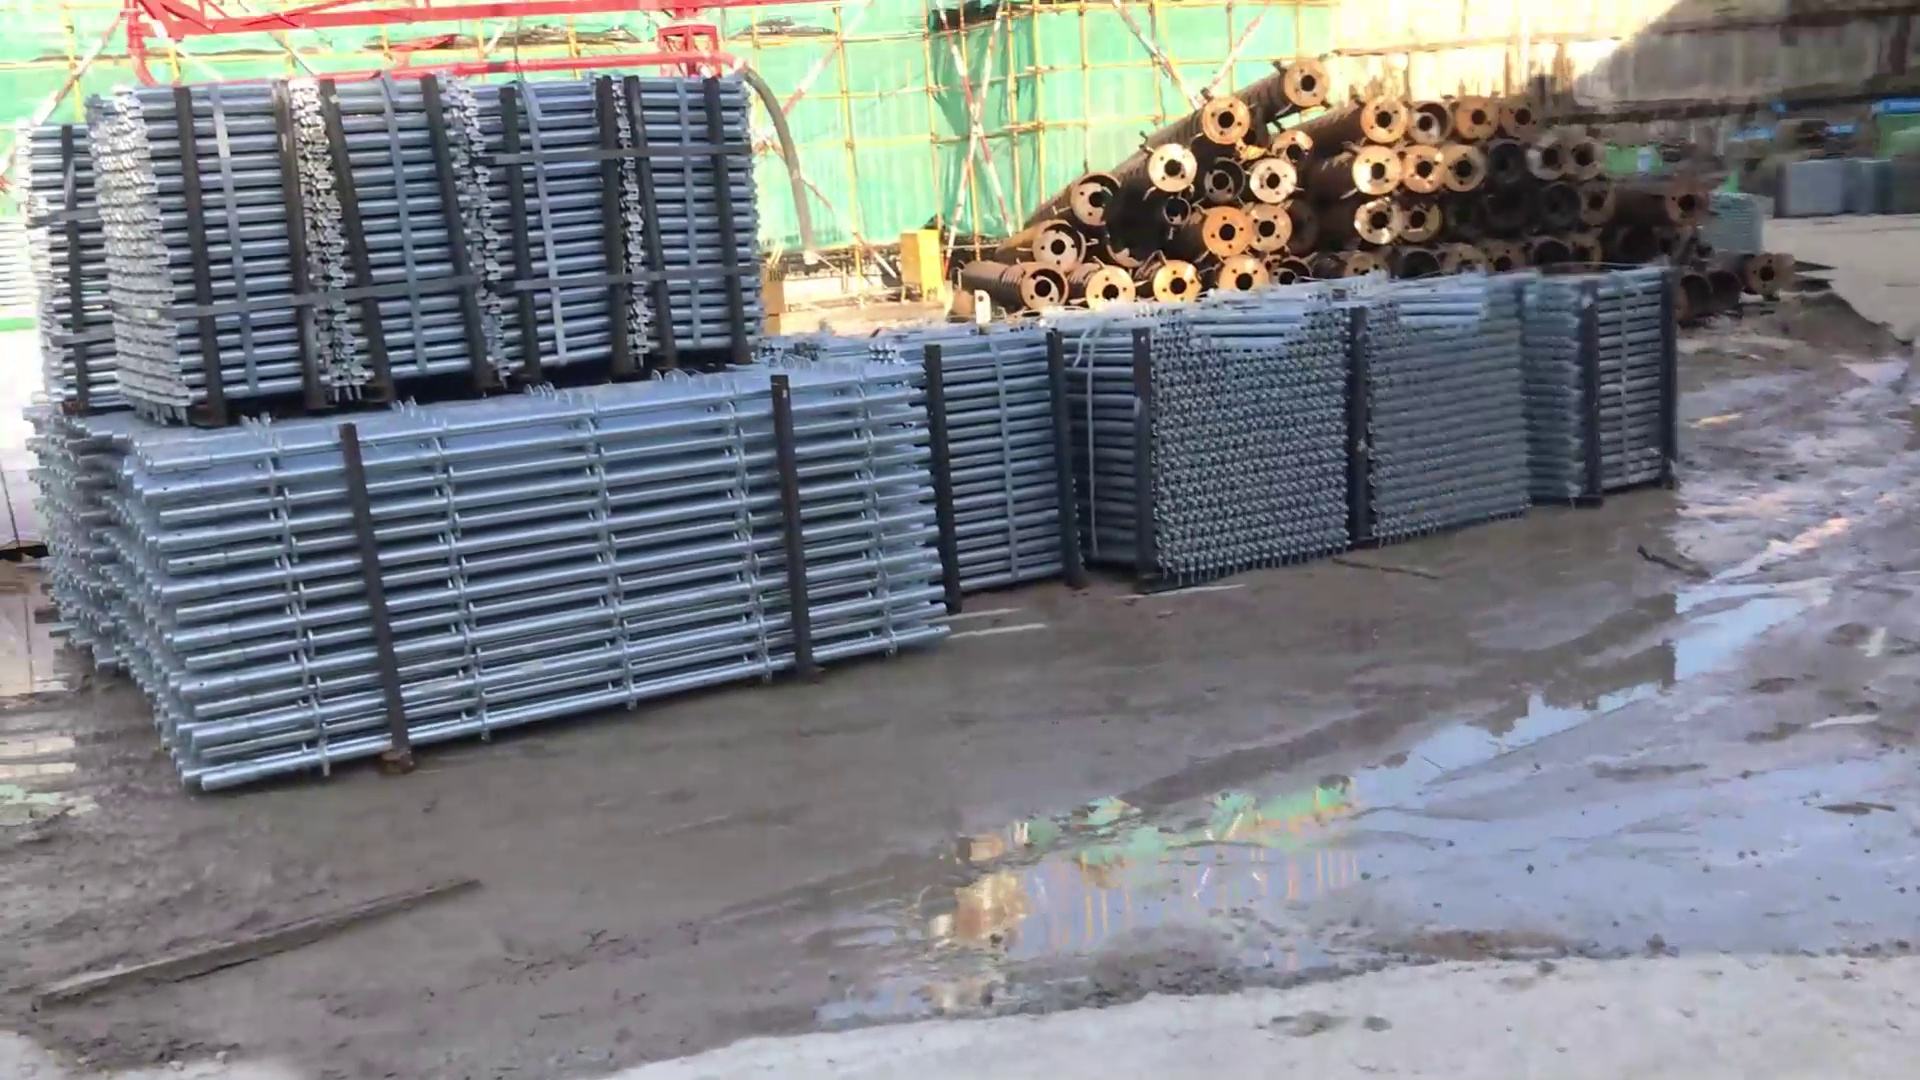ebox: (886, 222, 963, 297)
scaffold: (40, 386, 1000, 686), (38, 75, 785, 372), (963, 266, 1331, 572), (1337, 281, 1547, 550), (1540, 256, 1685, 498)
